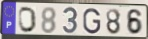3: (62, 6, 79, 36)
6: (125, 8, 144, 36)
8: (40, 6, 58, 35), (105, 8, 122, 36)
G: (82, 7, 102, 35)
O: (18, 6, 38, 34)
